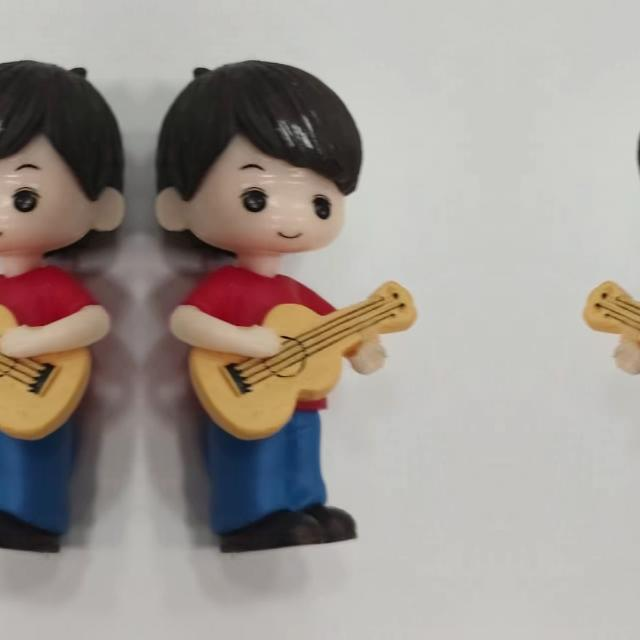man cloth: (178, 264, 356, 410), (0, 264, 102, 410)
man head: (154, 54, 366, 258), (0, 54, 126, 258), (633, 54, 640, 258)
trousers: (192, 404, 368, 556), (0, 404, 88, 555), (632, 404, 640, 555)
